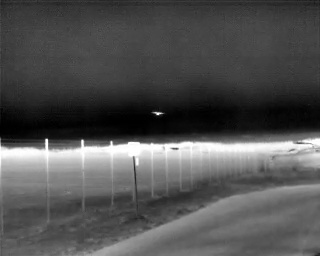AIRPLANE: (151, 109, 166, 118)
